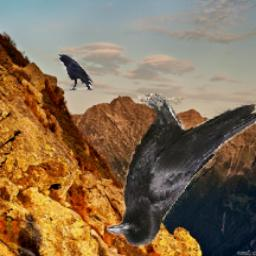Crow: (105, 93, 256, 246), (58, 54, 94, 91)
